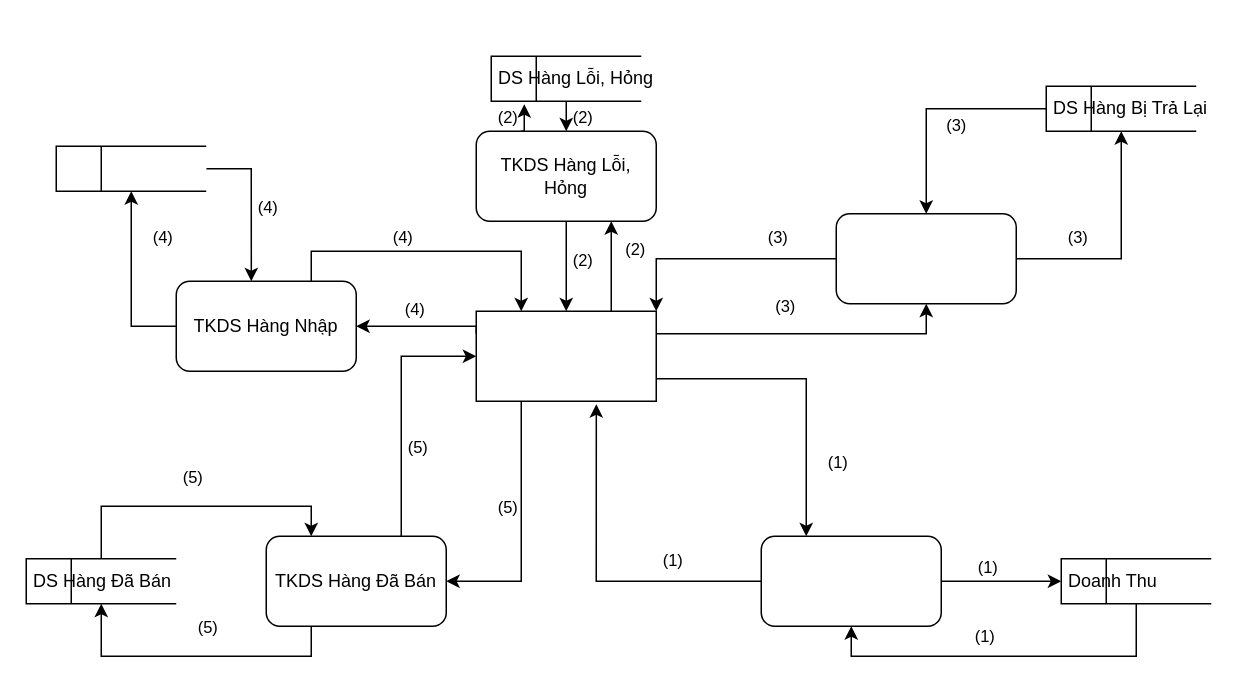
This 1238x695 diagram has some shape labels left out. The centre of each missing label's shape, as x and y in pixels:
"Báo Cáo Doanh Thu" belongs at point (850, 580).
"DS Hàng Nhập" belongs at point (130, 168).
"Nhân Viên" belongs at point (565, 355).
"TKDS Hàng Bị Trả Lại" belongs at point (925, 258).
